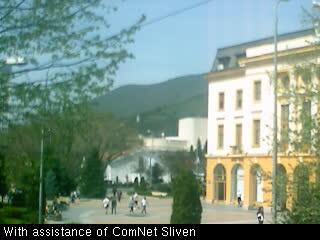person: (256, 206, 265, 224), (110, 192, 117, 215), (141, 197, 149, 215), (102, 195, 109, 214), (133, 192, 140, 211), (128, 195, 134, 215), (75, 189, 81, 208), (236, 190, 242, 207), (70, 191, 75, 207), (112, 186, 117, 197), (118, 190, 122, 203)
